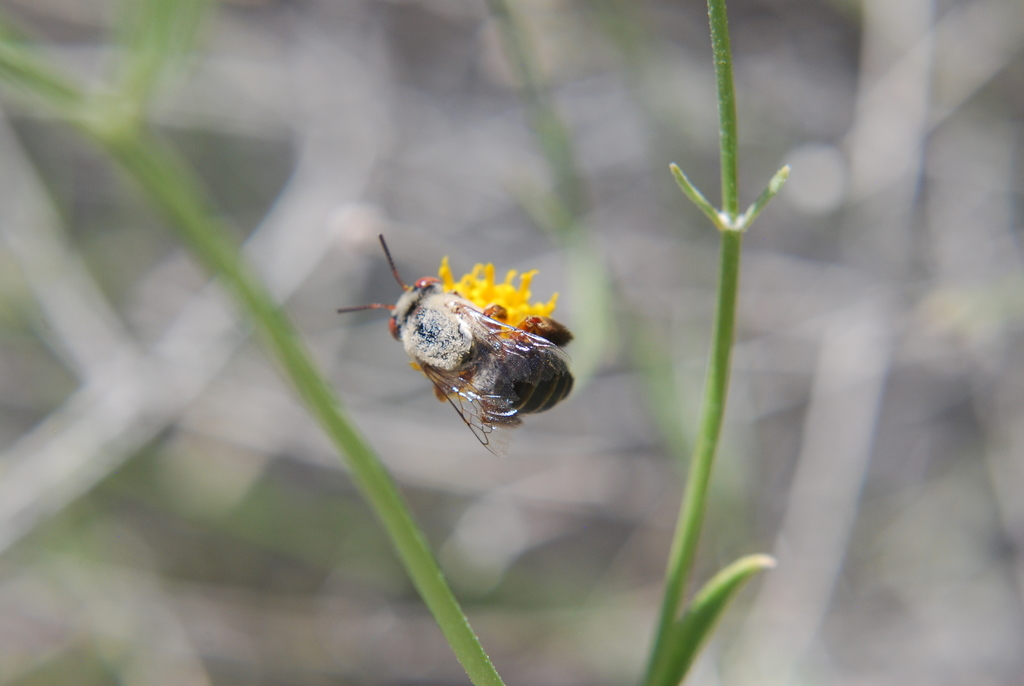not_bumblebee: (332, 231, 579, 456)
